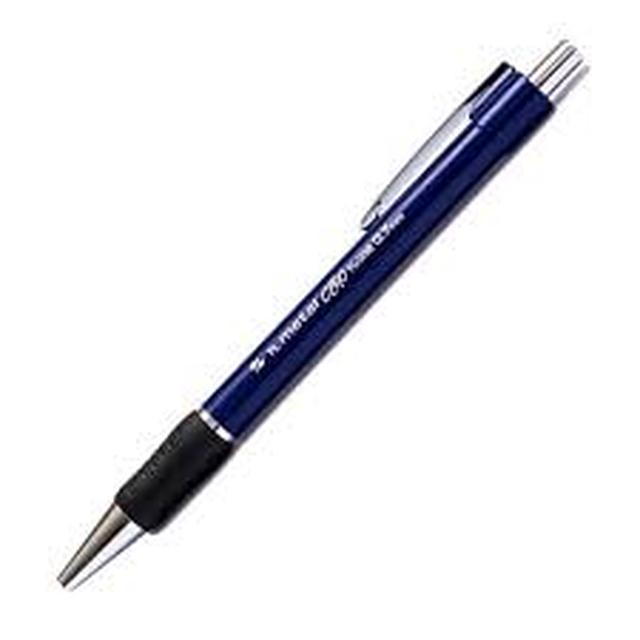pen: (68, 42, 597, 602)
